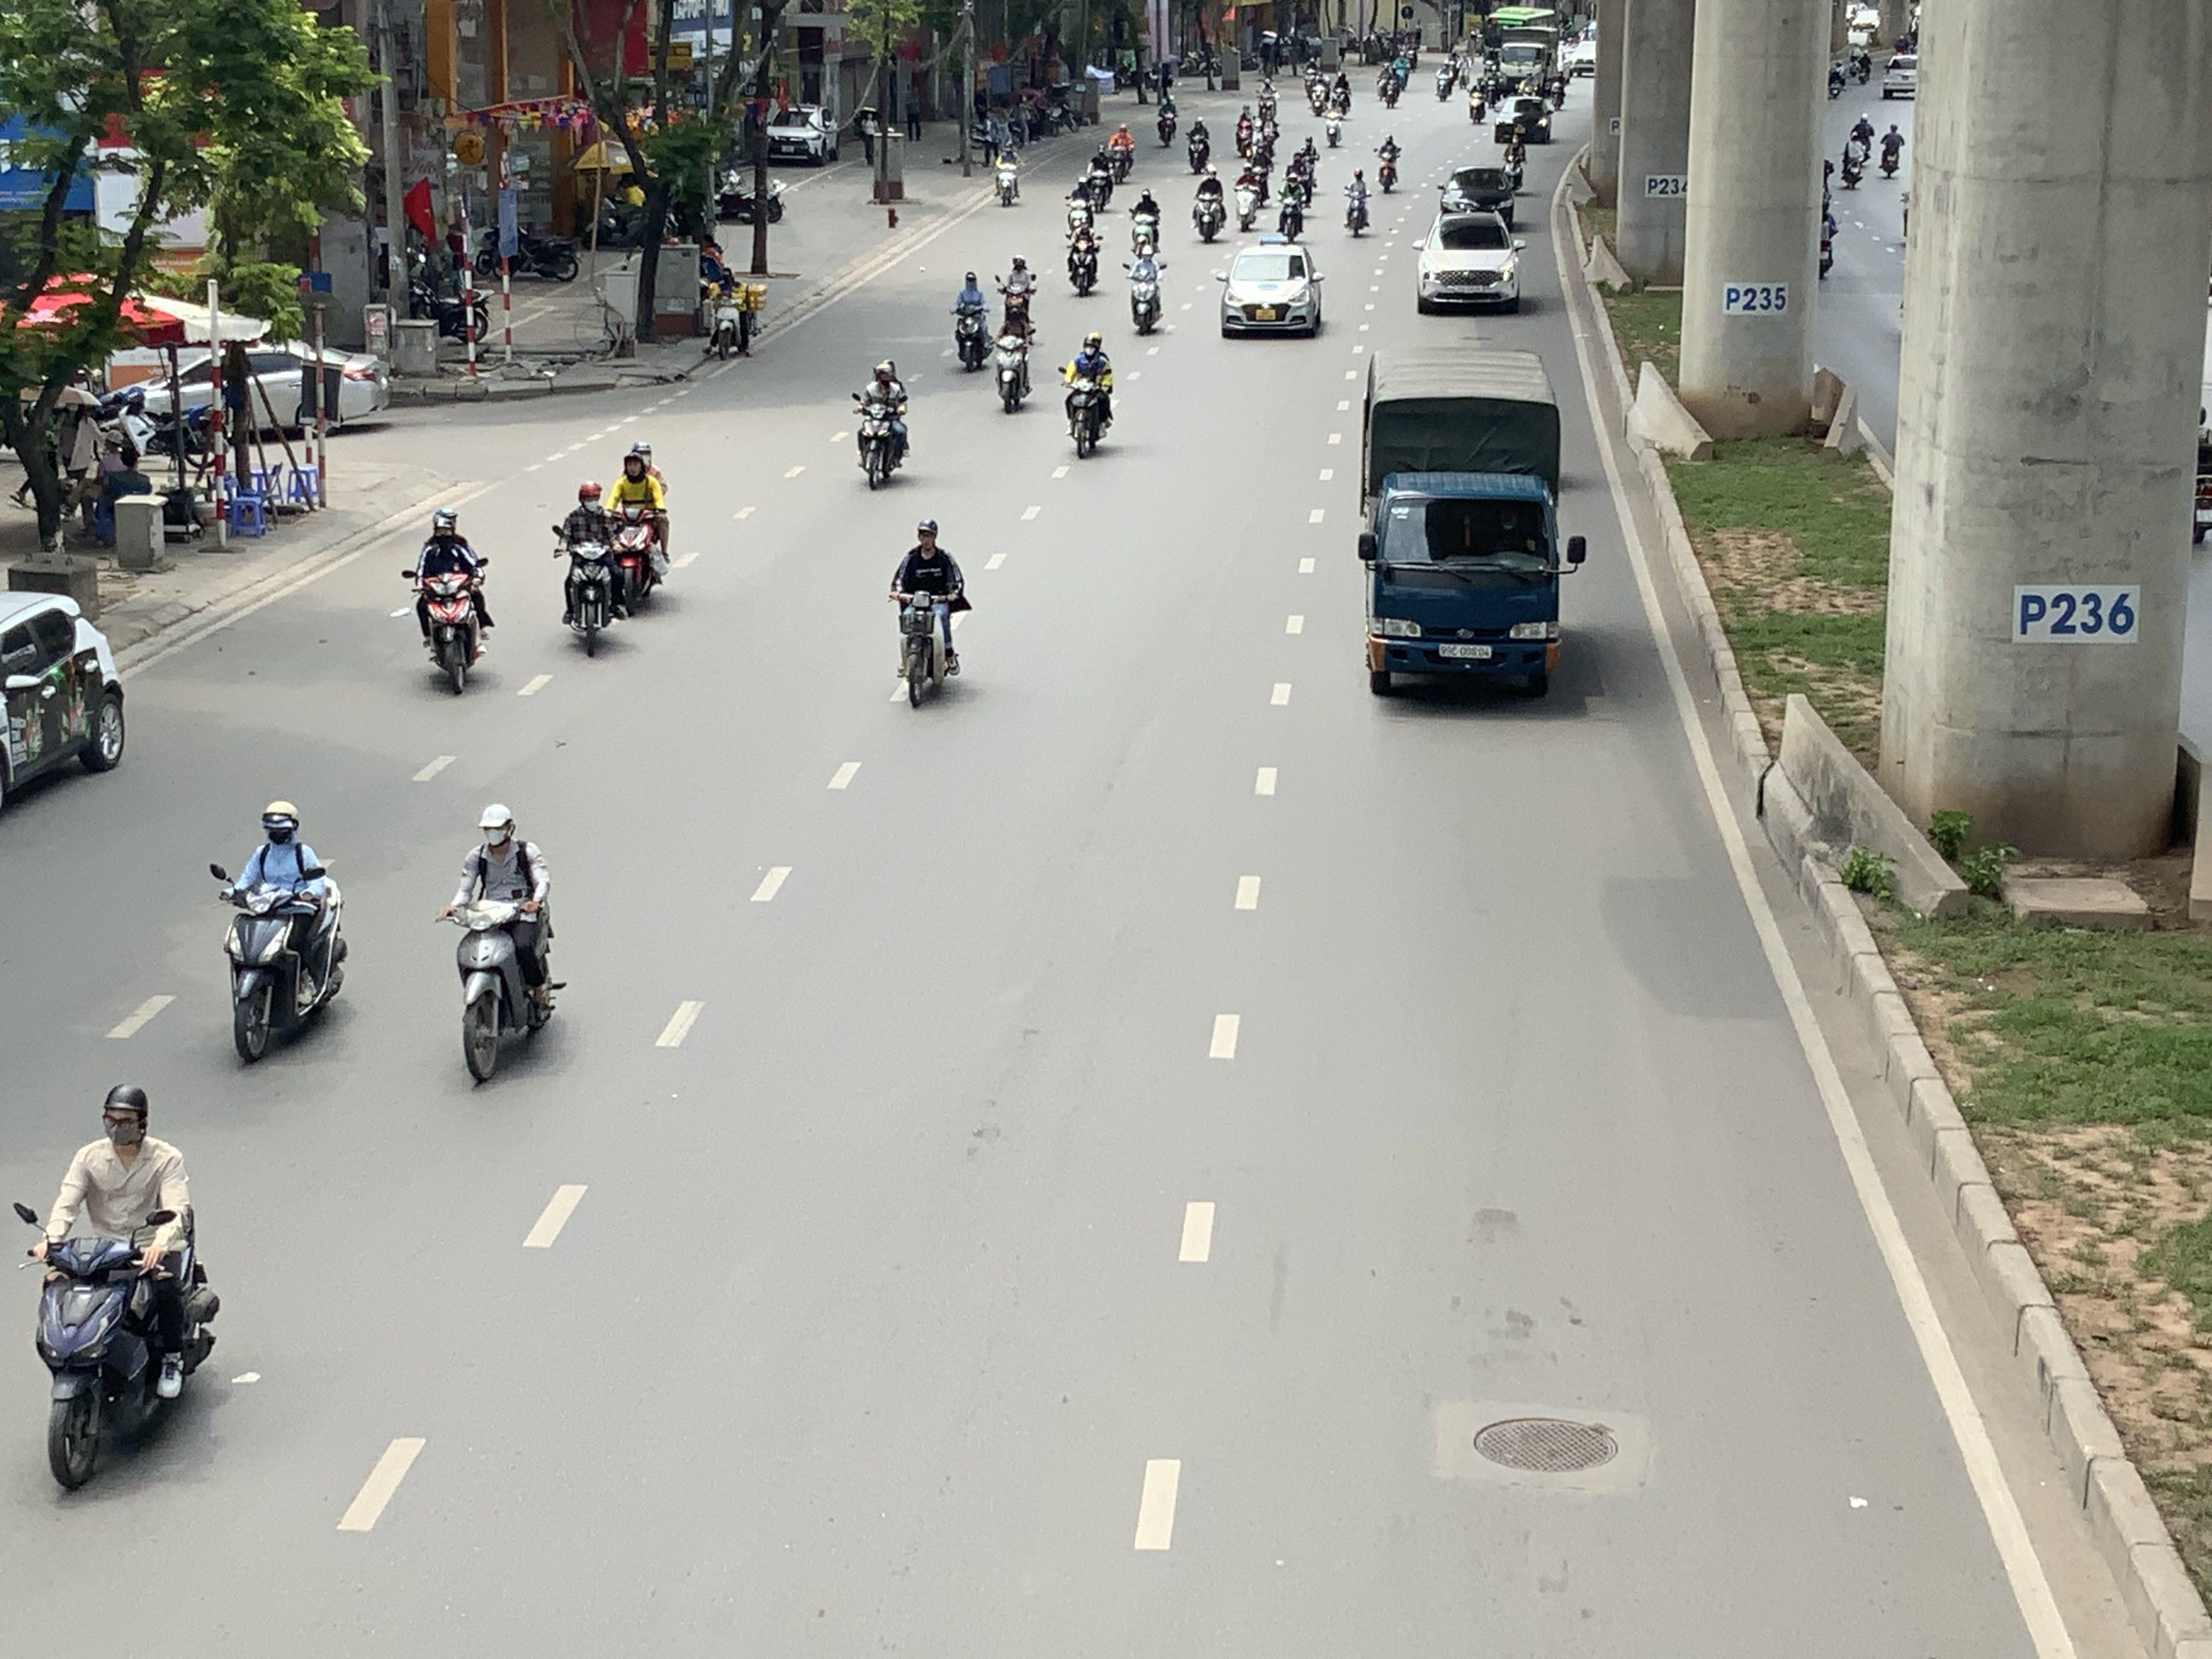BSD: (1439, 645, 1493, 659)
car: (0, 586, 127, 819), (1414, 211, 1524, 315), (1217, 242, 1325, 338), (1439, 160, 1521, 228), (765, 105, 840, 166), (1881, 52, 1919, 101)
motorbike: (17, 1084, 221, 1495), (214, 800, 348, 1066), (441, 805, 563, 1089), (408, 507, 493, 695), (890, 518, 968, 711), (554, 479, 625, 657), (606, 443, 672, 615), (853, 357, 911, 490), (1061, 331, 1116, 458), (991, 301, 1036, 413), (702, 274, 759, 359), (949, 270, 993, 371), (1125, 235, 1167, 335), (996, 253, 1040, 335), (1064, 209, 1103, 296), (1191, 164, 1228, 242), (1127, 186, 1163, 256), (1341, 166, 1374, 239), (1277, 169, 1310, 242), (1231, 155, 1263, 232), (1285, 136, 1320, 202), (1082, 148, 1116, 214), (1841, 115, 1872, 188), (1496, 120, 1529, 185), (1372, 129, 1404, 193), (993, 141, 1022, 207), (1184, 113, 1214, 173), (1878, 119, 1905, 179), (1376, 52, 1406, 108), (1108, 122, 1136, 179), (1322, 92, 1348, 150), (1155, 92, 1179, 148), (1435, 52, 1460, 103), (1467, 71, 1489, 124)
truck: (1353, 350, 1588, 699)
